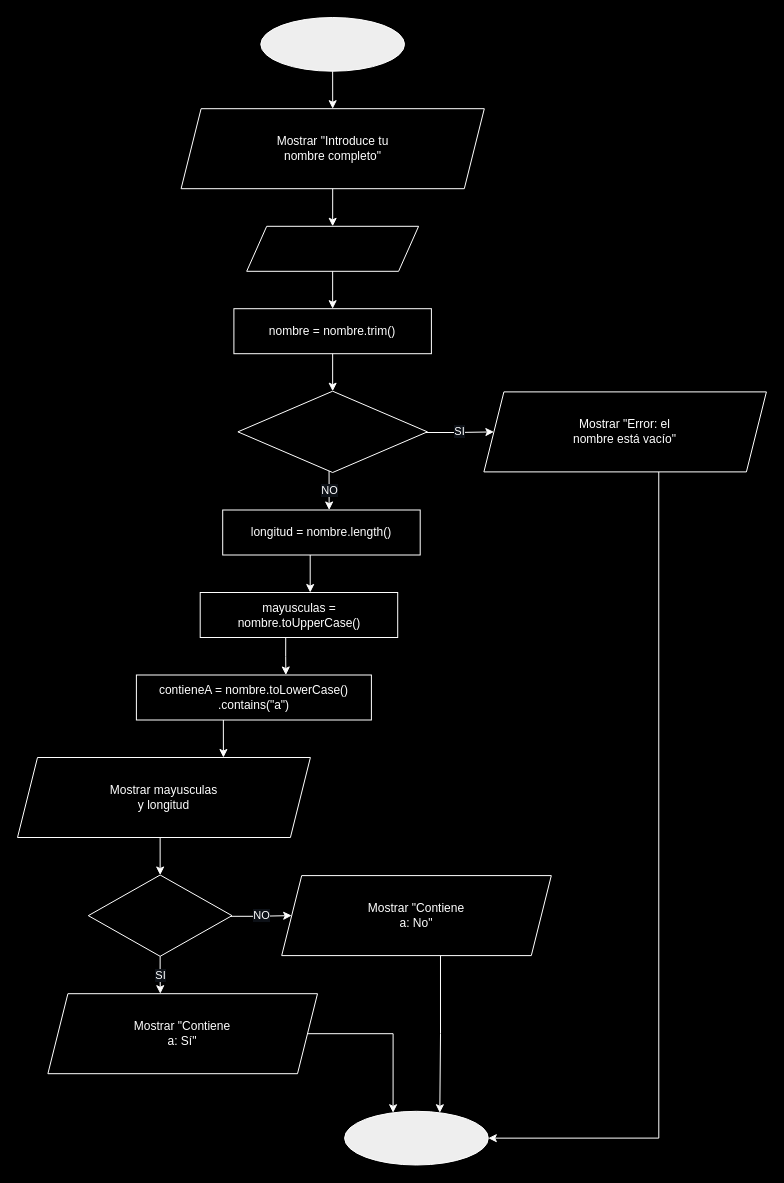
This 784x1183 diagram has some shape labels left out. The shapes that lost their labels are listed below. From the top down, each one's box as (x1, y1, x2, y2) in pixels, then its label:
(260, 16, 404, 71): INICIO
(246, 225, 419, 271): Leer nombre
(237, 390, 427, 472): nombre.isEmpty()
(87, 874, 232, 956): contieneA
(344, 1110, 488, 1165): FIN
